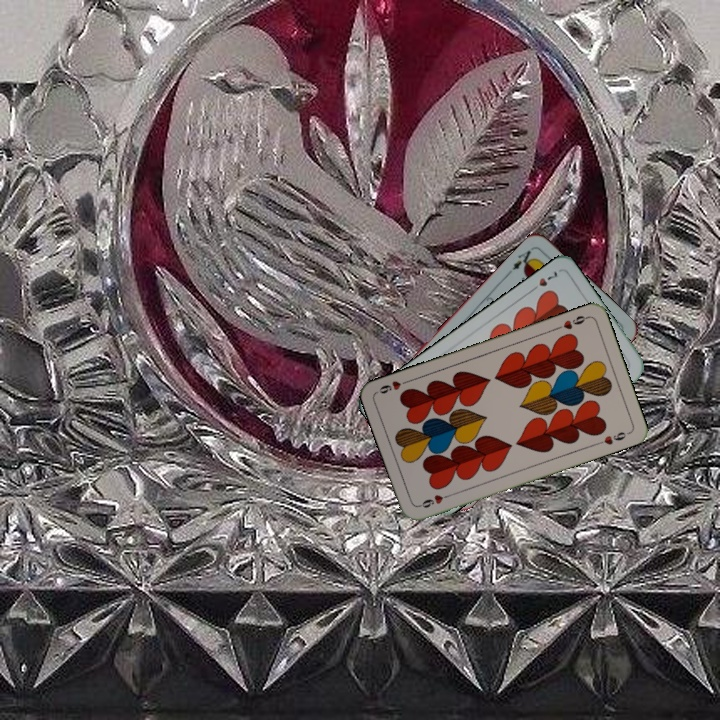EA: (508, 243, 537, 273)
H7: (526, 267, 562, 295)
H9: (414, 490, 454, 511), (552, 312, 591, 333)
